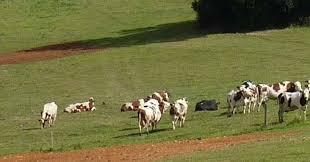cow: (258, 81, 302, 112), (278, 89, 310, 123), (138, 99, 163, 136), (229, 89, 253, 115), (237, 80, 257, 110), (170, 98, 188, 129), (38, 101, 57, 130), (195, 99, 221, 112), (121, 98, 144, 112), (147, 90, 172, 102), (80, 96, 97, 113), (64, 102, 84, 114), (158, 100, 170, 114)
